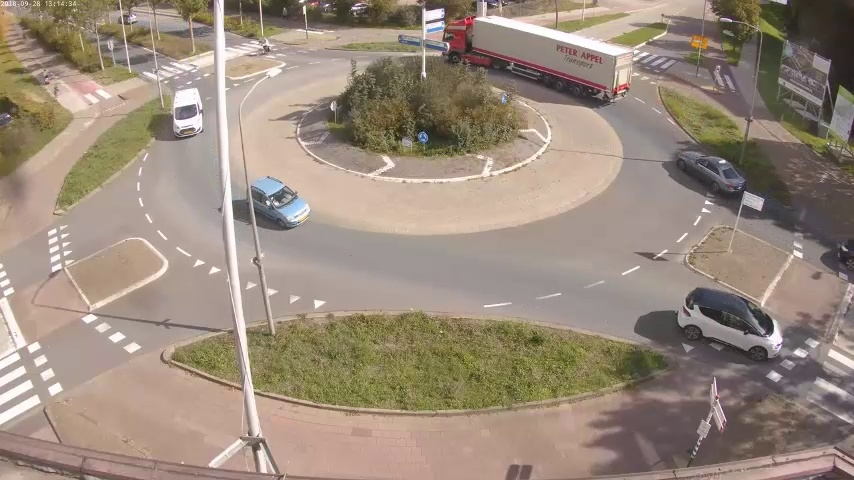bicycle: (254, 35, 270, 57)
car: (681, 285, 789, 359), (675, 145, 749, 200), (243, 175, 314, 223), (169, 87, 205, 138)
truck: (441, 12, 636, 105)
